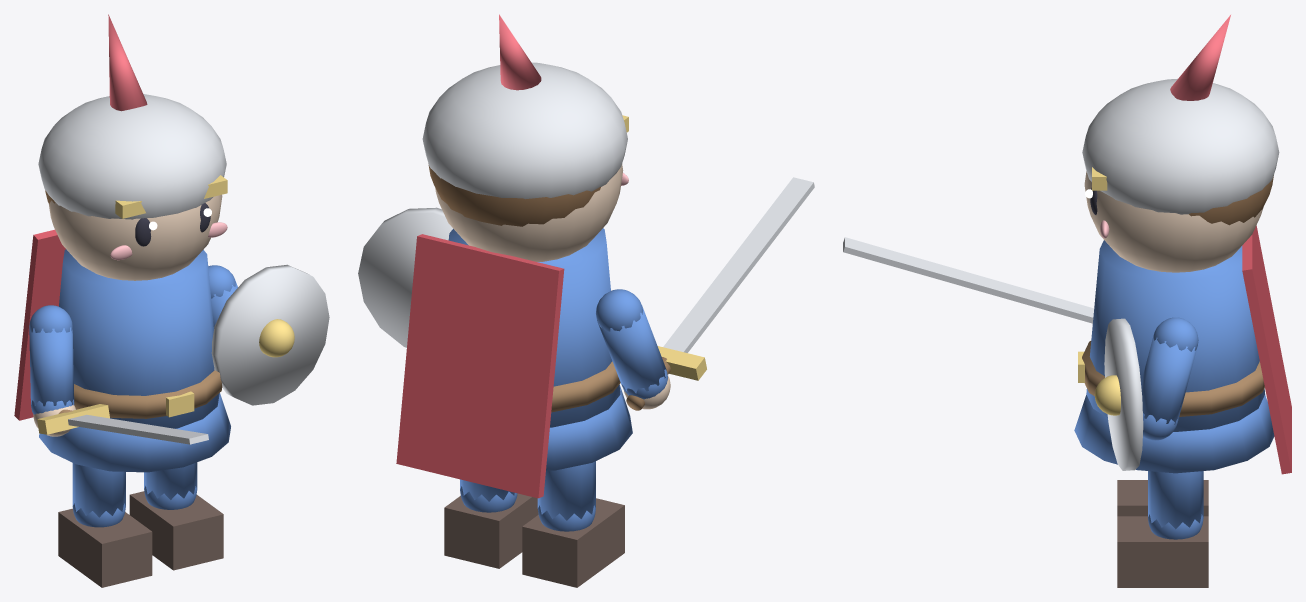
File: fixture_player.glb
The picture shows the model from 3 angles, left to right: view 1: azimuth 30°, elevation 25°; view 2: azimuth 150°, elevation 25°; view 3: azimuth 270°, elevation 25°; orthographic projection. The views are drawn at different scales.
Parts seen in each view (by area): view 1: Body, Helmet, Shield, Head, Skirt, Boot, Boot.001, Cape, ArmR, Belt, Leg, Plume (+10 smaller); view 2: Cape, Helmet, Body, Shield, Head, Boot, Blade, Boot.001, Hair, Skirt, ArmR, Leg (+7 smaller); view 3: Helmet, Body, Head, Skirt, Boot.001, Cape, Shield, Blade, ArmL, Leg.001, Belt, Plume (+6 smaller).
Part boxes in pixels (x1,y1,x2,y2): Body: (59,249,219,428); Helmet: (38,94,226,219); Shield: (211,264,329,405); Head: (48,194,222,280); Skirt: (39,393,230,472); Boot: (58,508,152,587); Boot.001: (129,491,223,570); Cape: (14,229,65,420); ArmR: (29,327,74,406); Belt: (74,370,222,418); Leg: (72,463,125,517); Plume: (108,14,147,111); Cape: (396,234,564,498); Helmet: (422,62,627,199); Body: (448,228,620,427); Shield: (358,207,452,347); Head: (435,164,623,261); Boot: (522,498,624,587); Blade: (663,177,814,352); Boot.001: (444,493,538,568); Hair: (428,165,600,226); Skirt: (546,385,632,470); ArmR: (597,305,666,393); Leg: (537,461,595,520); Helmet: (1082,78,1279,214); Body: (1086,240,1264,431); Head: (1084,171,1263,272); Skirt: (1074,394,1274,473); Boot.001: (1117,516,1208,587); Cape: (1242,225,1291,474); Shield: (1104,318,1143,470); Blade: (843,237,1094,323); ArmL: (1141,336,1196,424); Leg.001: (1148,471,1203,529); Belt: (1082,341,1264,416); Plume: (1170,15,1230,100).
Size of the model in its own units: 1.42 by 2.36 by 1.77.
